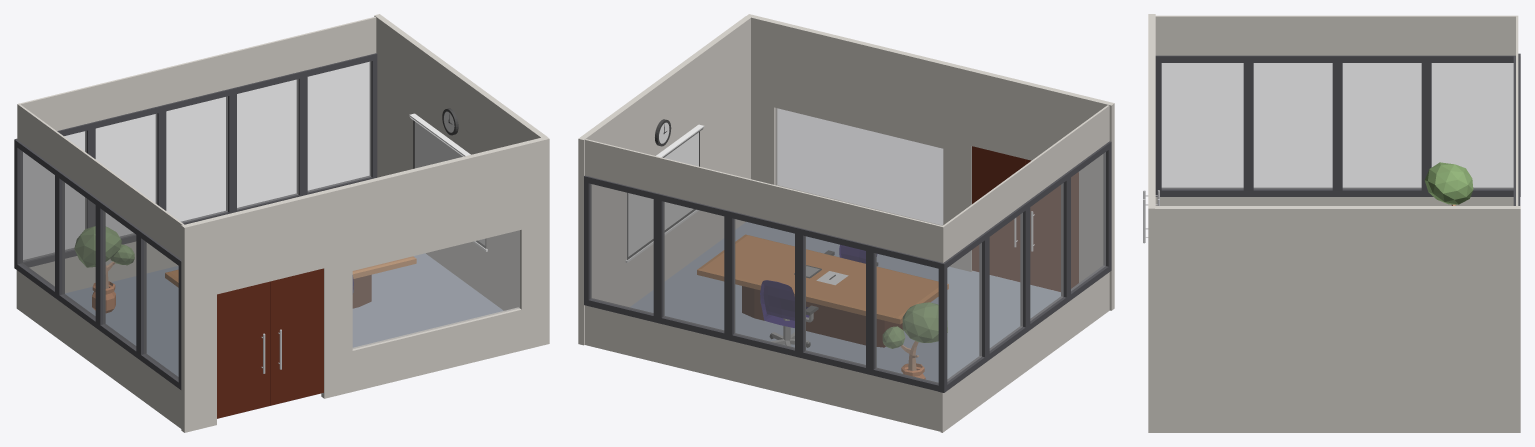
File: conference.fbx
3 renders of one model, left to right at view 1: azimuth 30°, elevation 25°; view 2: azimuth 150°, elevation 25°; view 3: azimuth 270°, elevation 25°, orthographic. The views are drawn at different scales.
Visible parts, largest first — view 1: Cube.018, Plane.012, Cube.016, Plane.013, Cube.015, Plane.011, Cube.021, Plane.008, Plane.009, Cube.023, Cube.017, Plane.010 (+6 smaller); view 2: Plane.012, Cube.018, Cube.016, Plane.013, Plane.008, Cube.020, Cube.021, Plane.011, Plane.009, Cube.013, Plane.010, Cube.023 (+7 smaller); view 3: Cube.016, Plane.013, Cube.022, Plane.010, Cube.019, Cube.018, Icosphere.003, Plane.009, Cube.021, Cube.023.
Part boxes in pixels (<box>): Cube.018: <box>321,136,549,398</box>; Plane.012: <box>23,61,371,261</box>; Cube.016: <box>374,14,546,310</box>; Plane.013: <box>20,150,178,379</box>; Cube.015: <box>217,268,323,418</box>; Plane.011: <box>352,230,519,348</box>; Cube.021: <box>19,17,376,130</box>; Plane.008: <box>65,253,503,416</box>; Plane.009: <box>14,53,377,269</box>; Cube.023: <box>212,191,324,294</box>; Cube.017: <box>181,218,216,432</box>; Plane.010: <box>14,138,181,389</box>; Plane.012: <box>590,184,938,383</box>; Cube.018: <box>746,14,973,271</box>; Cube.016: <box>578,16,750,345</box>; Plane.013: <box>947,152,1105,381</box>; Plane.008: <box>630,222,1060,382</box>; Cube.020: <box>585,305,940,431</box>; Cube.021: <box>585,139,941,262</box>; Plane.011: <box>775,108,943,225</box>; Plane.009: <box>584,175,947,392</box>; Cube.013: <box>697,234,948,347</box>; Plane.010: <box>938,141,1111,392</box>; Cube.023: <box>970,69,1083,160</box>; Cube.016: <box>1155,206,1520,432</box>; Plane.013: <box>1161,63,1513,189</box>; Cube.022: <box>1155,15,1518,55</box>; Plane.010: <box>1155,53,1520,196</box>; Cube.019: <box>1155,197,1513,205</box>; Cube.018: <box>1148,89,1155,432</box>; Icosphere.003: <box>1424,162,1473,205</box>; Plane.009: <box>1513,53,1520,205</box>; Cube.021: <box>1516,16,1518,205</box>; Cube.023: <box>1148,30,1155,88</box>.
Size of the model in its own units: 2612 by 1403 by 2138.
